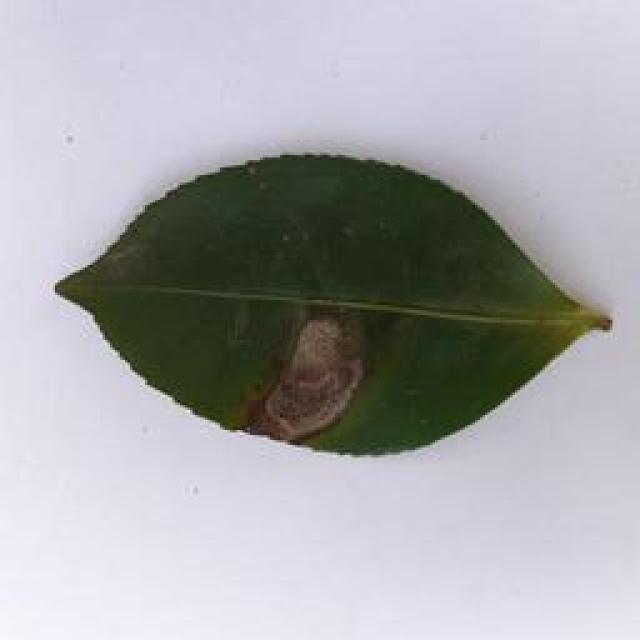Gray Blight: (47, 144, 627, 456)
